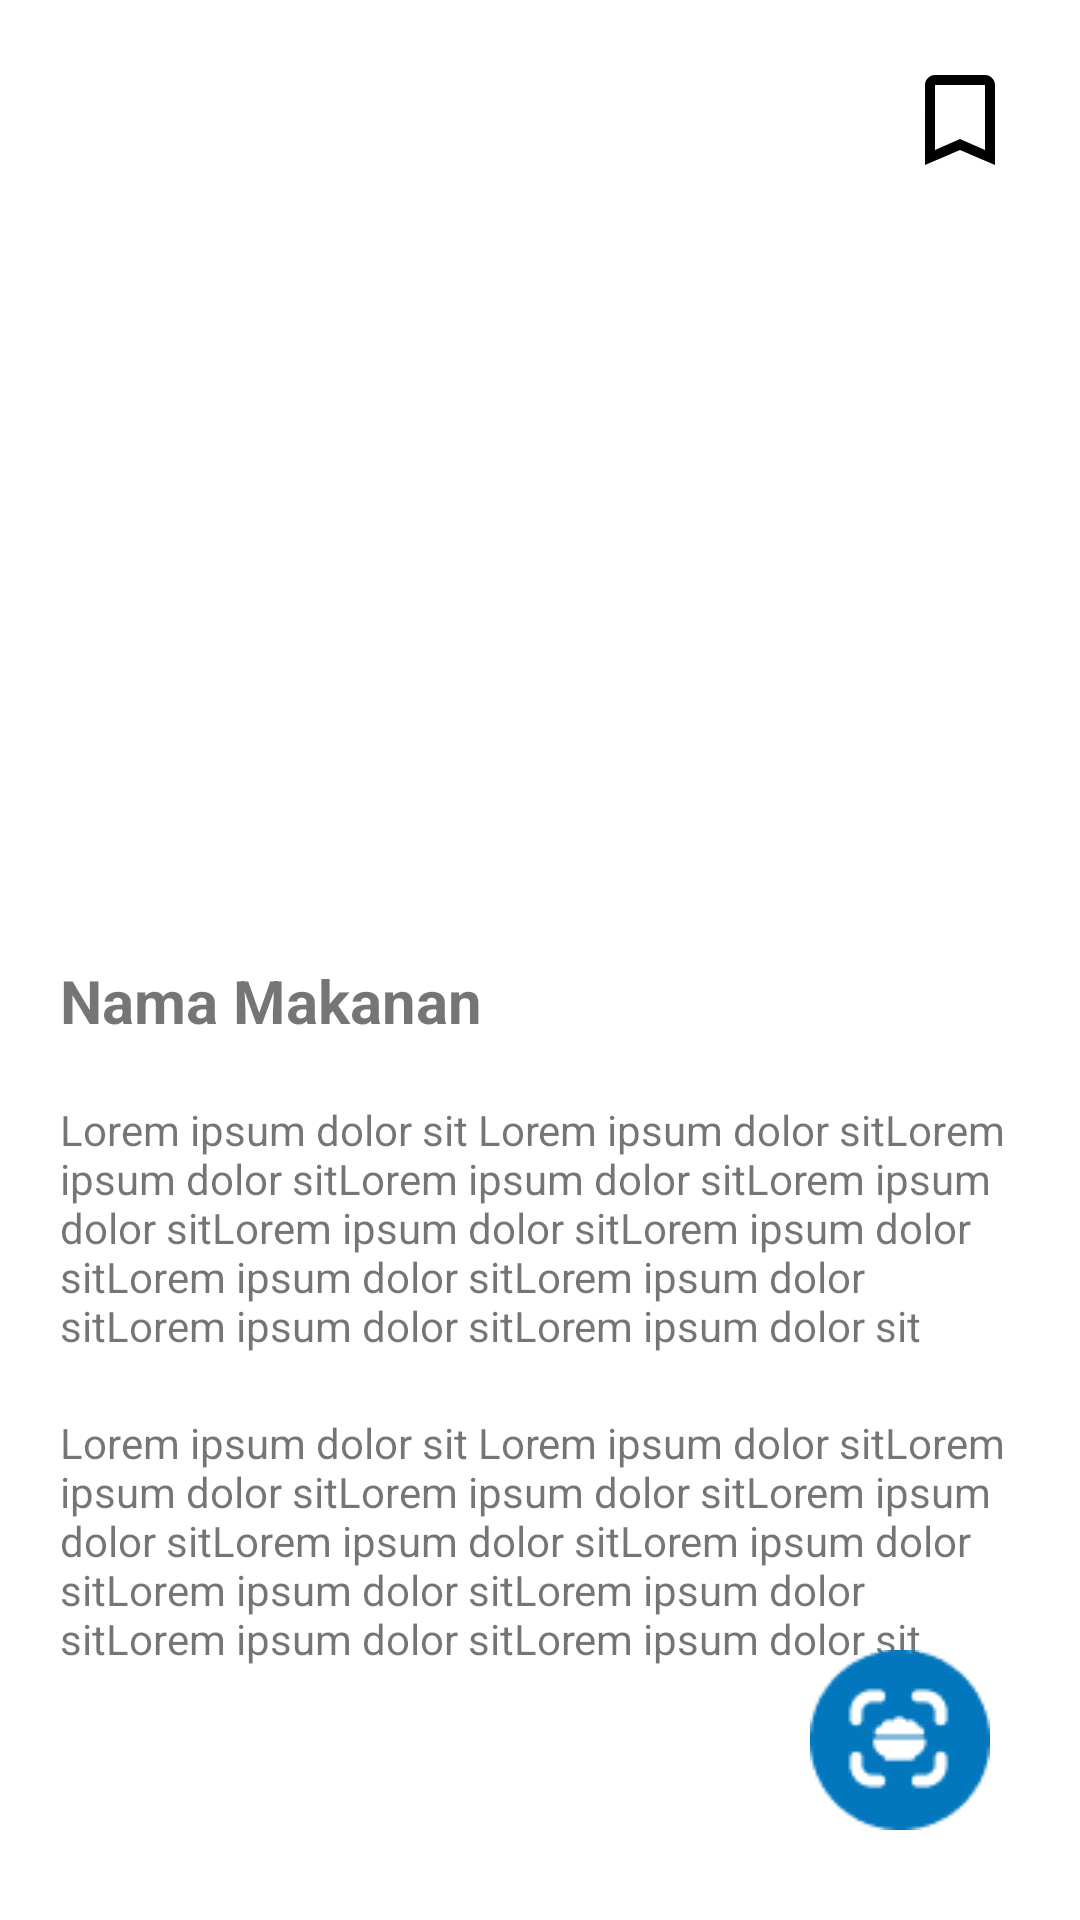

Named icons in this screenshot (1080 x 1920) and their centers, point (x, y):
scan food float: point (900, 1740)
